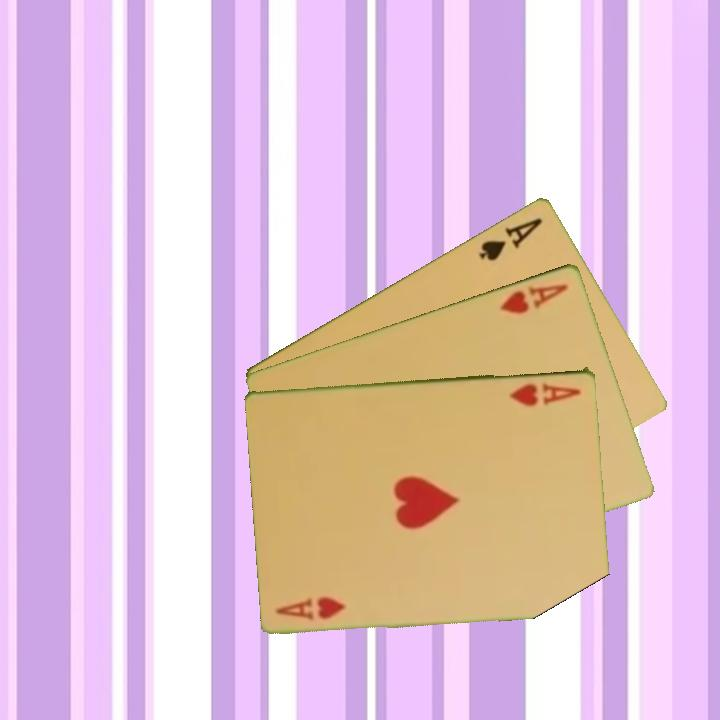Ah: (496, 280, 571, 316), (506, 378, 584, 409), (272, 594, 349, 623)
As: (476, 213, 546, 263)
